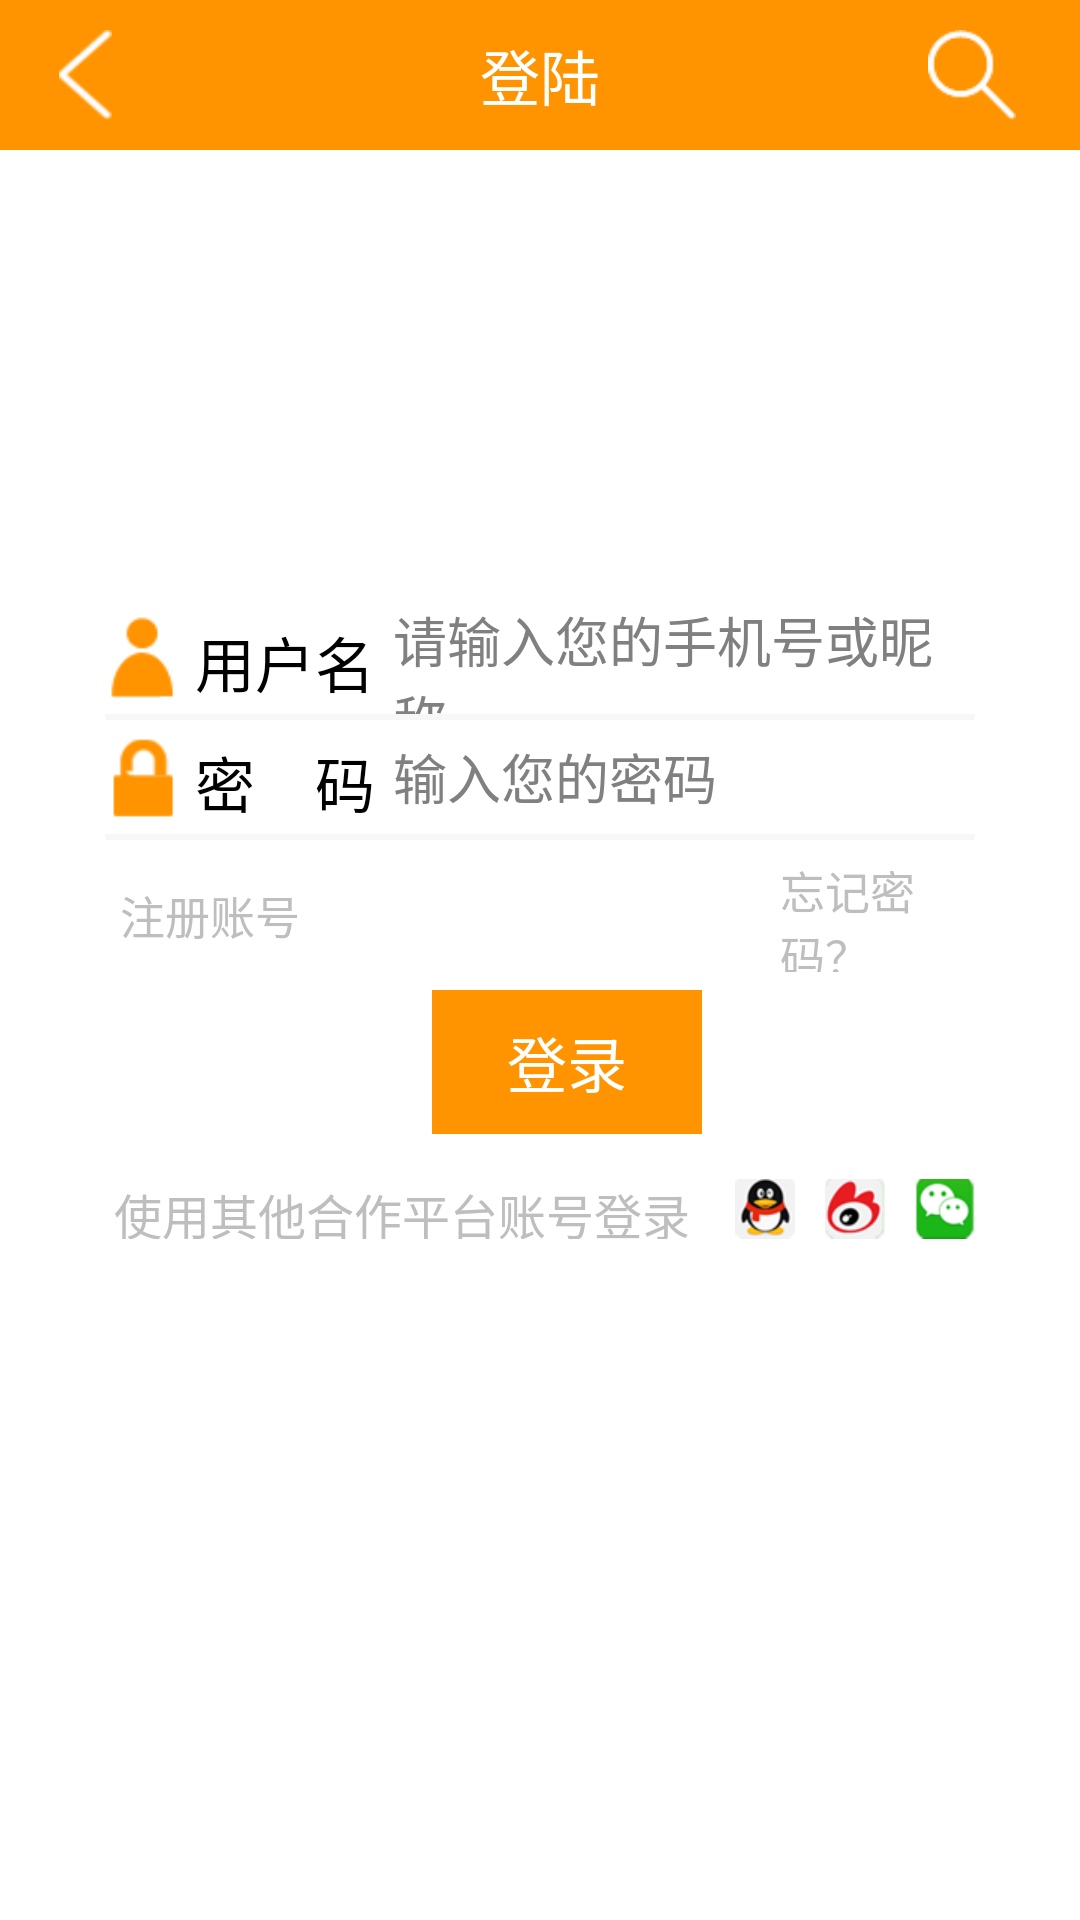

Icon bounding boxes for this 1080 x 1920 phone screenshot, format rect(x1, y1, x2, y2):
back: rect(59, 30, 112, 120)
search: rect(928, 30, 1016, 120)
